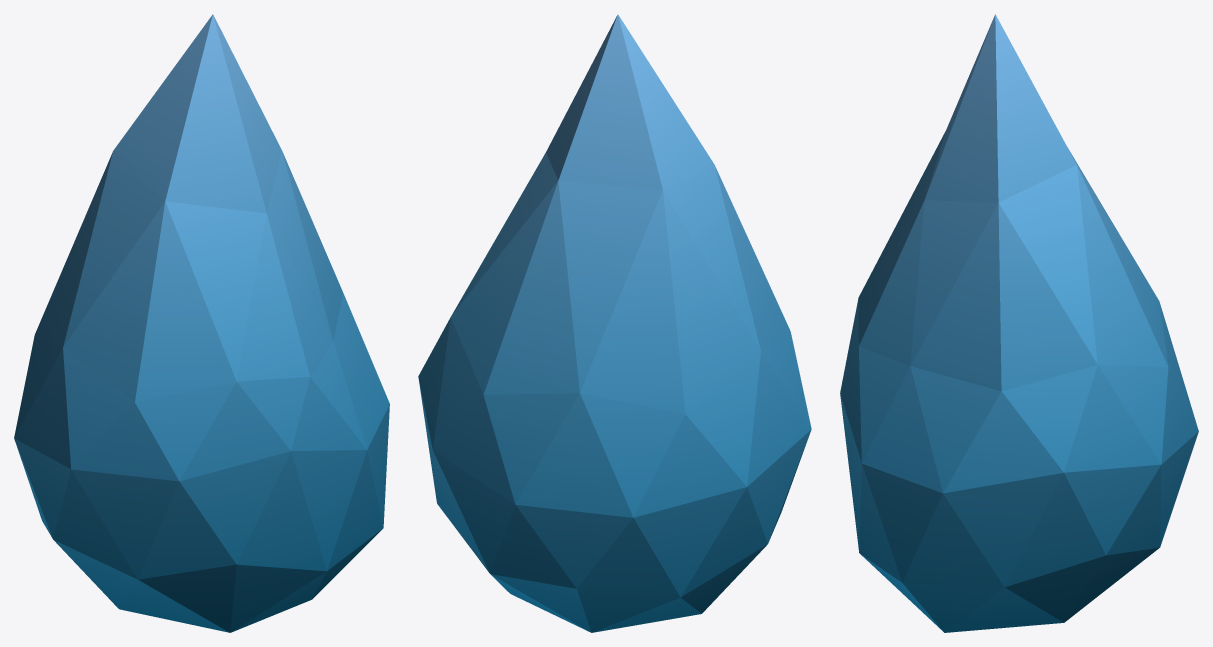
File: water_elemental.dae
3 views of the same model, side by side, from view 1: azimuth 30°, elevation 25°; view 2: azimuth 150°, elevation 25°; view 3: azimuth 270°, elevation 25° (orthographic).
Parts seen in each view (by area): view 1: Icosphere.001; view 2: Icosphere.001; view 3: Icosphere.001.
Part boxes in pixels (bbox=[...]): Icosphere.001: bbox=[14, 14, 389, 632]; Icosphere.001: bbox=[418, 14, 811, 632]; Icosphere.001: bbox=[840, 14, 1198, 632].
Bounding box in the file's own units: 1.96 × 1.82 × 3.38.
1 material, 1 textured.
